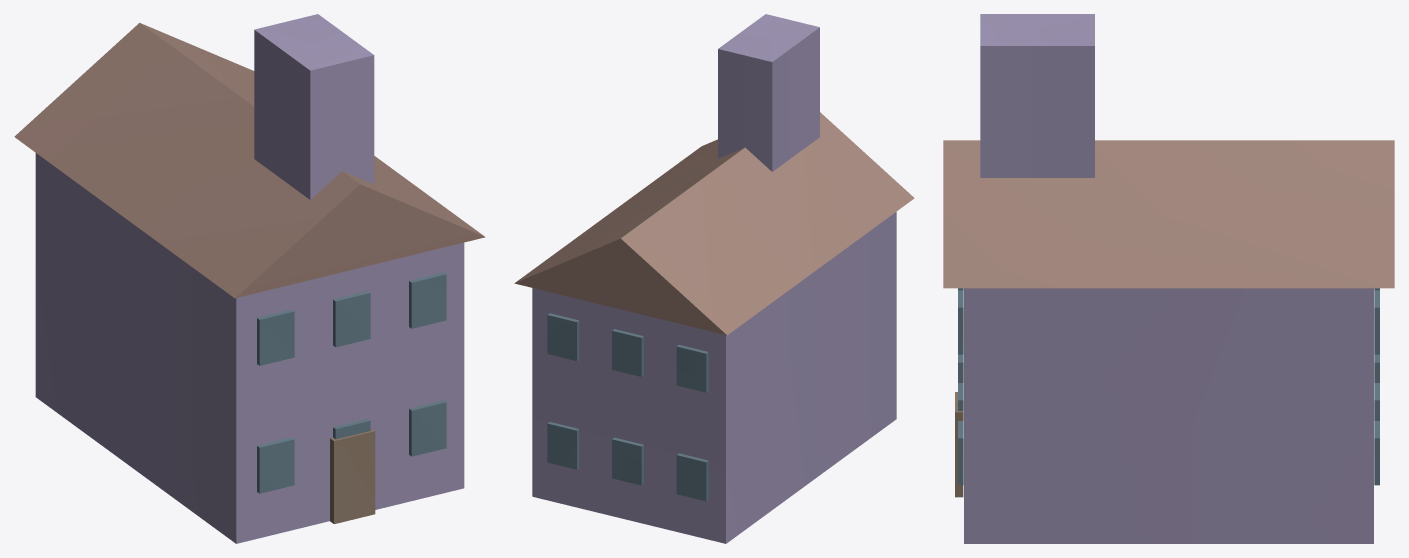
The model's file is church-02.glb.
3 renders of one model, left to right at view 1: azimuth 30°, elevation 25°; view 2: azimuth 150°, elevation 25°; view 3: azimuth 270°, elevation 25°, orthographic. The views are drawn at different scales.
Visible parts, largest first — view 1: world; view 2: world; view 3: world.
Boxes of the visible parts, x1=… form: world: x1=14, y1=14, x2=485, y2=543; world: x1=514, y1=14, x2=914, y2=543; world: x1=943, y1=14, x2=1394, y2=543.
Size of the model in its own units: 1.26 by 2.15 by 1.93.
